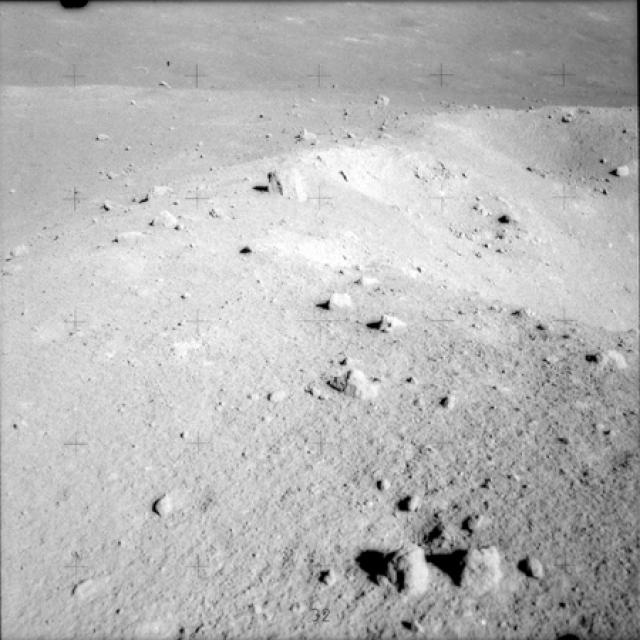crater: (242, 111, 639, 331)
rock: (375, 540, 433, 596), (460, 542, 510, 597), (319, 367, 381, 405), (260, 164, 302, 205), (584, 348, 627, 380), (146, 485, 186, 519), (320, 288, 357, 314), (515, 552, 544, 580), (4, 232, 30, 261)
